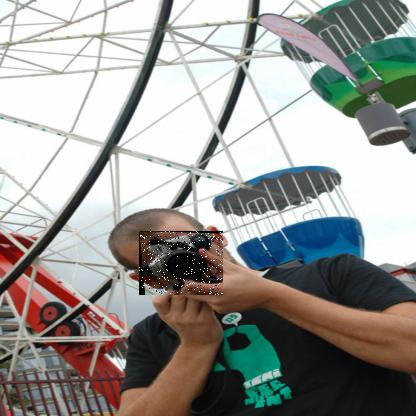Camera: (140, 232, 225, 297)
